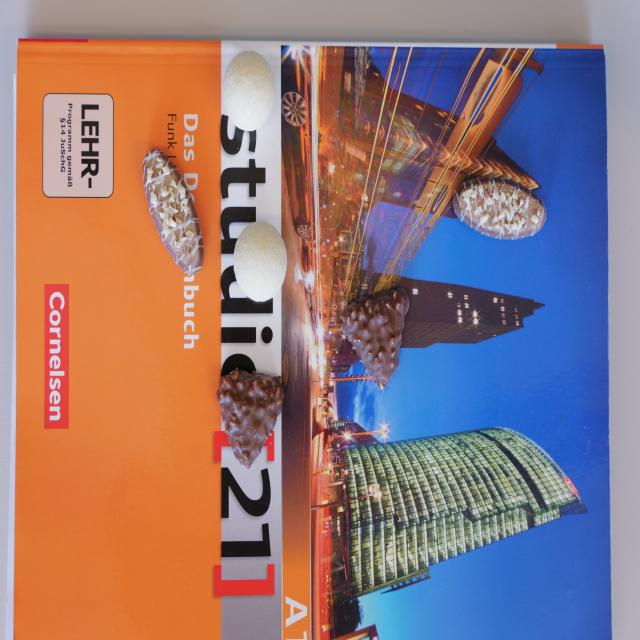Amandina: (142, 149, 203, 275), (453, 178, 547, 240)
Comtesse: (232, 220, 288, 303), (222, 50, 275, 132)
Triangolo: (340, 288, 410, 390), (216, 371, 284, 469)
